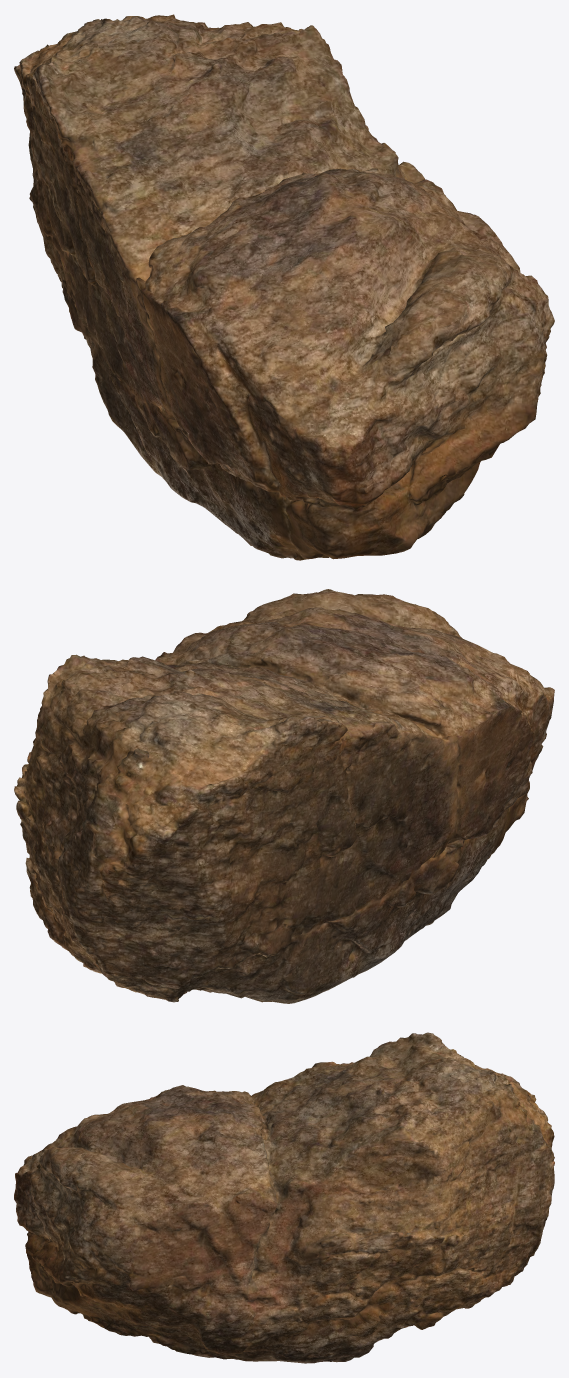
The model's file is namaqualand-boulder-06.glb.
The picture shows the model from 3 angles, top to bottom: view 1: azimuth 30°, elevation 25°; view 2: azimuth 150°, elevation 25°; view 3: azimuth 270°, elevation 25°; orthographic projection. The views are drawn at different scales.
Parts seen in each view (by area): view 1: namaqualand_boulder_06; view 2: namaqualand_boulder_06; view 3: namaqualand_boulder_06.
Boxes of the visible parts, <box> form: namaqualand_boulder_06: <box>14,14,554,560</box>; namaqualand_boulder_06: <box>14,589,554,1003</box>; namaqualand_boulder_06: <box>14,1032,554,1363</box>.
Bounding box in the file's own units: 0.6747 × 0.6516 × 1.21.
Materials: 1 (1 with a texture image).
